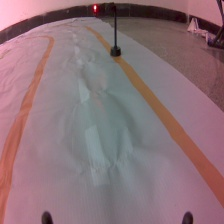red: (90, 1, 124, 61)
